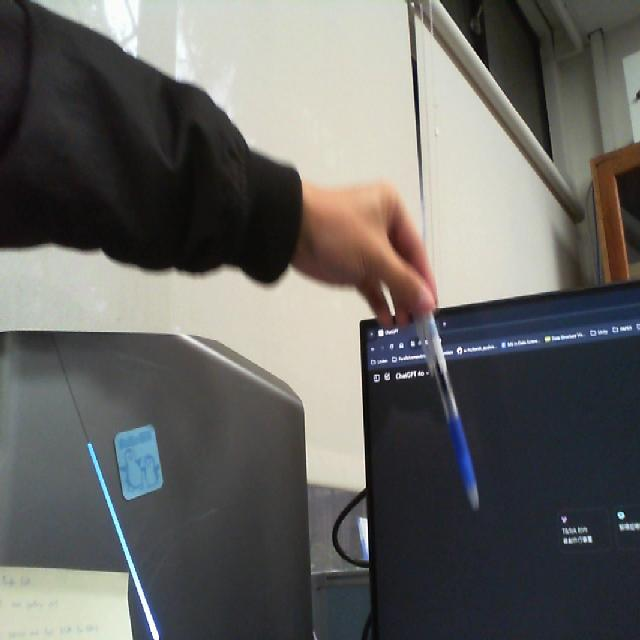Pen: (396, 248, 499, 527)
